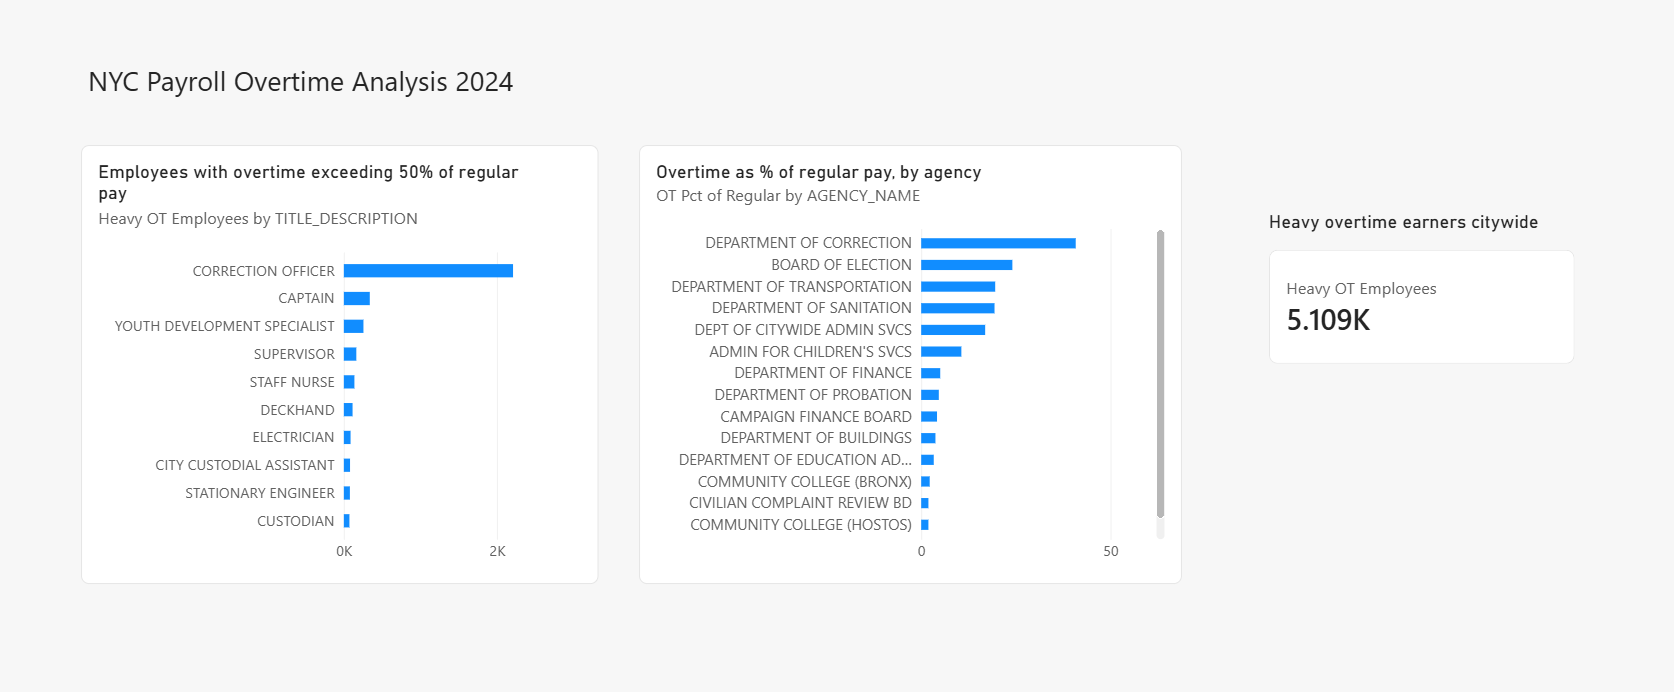

The dashboard page shown, as its layout file describes it:
{"tool":"powerbi","page":{"name":"Page 1","canvas":[1920,1080],"ordinal":0},"visuals":[{"type":"barChart","title":"Overtime as % of regular pay, by agency","fields":{"Category":["PAYROLL_RAW.AGENCY_NAME"],"Y":["PAYROLL_RAW.OT Pct of Regular"]},"box":[691,222.8,533,430.9],"z":0},{"type":"barChart","title":"Employees with overtime exceeding 50% of regular pay","fields":{"Category":["PAYROLL_RAW.TITLE_DESCRIPTION"],"Y":["PAYROLL_RAW.Heavy OT Employees"]},"box":[143.3,222.8,508.5,430.9],"z":1000},{"type":"cardVisual","title":"Heavy overtime earners citywide","fields":{"Data":["PAYROLL_RAW.Heavy OT Employees","select"]},"box":[1309.4,287.6,300,150],"z":2000},{"type":"textbox","box":[150.2,140.4,430.9,43.2],"z":2001}]}

Visuals, with their boxes on the page's 1920x1080 design canvas (x1, y1, x2, y2). These are canvas units, not pixel positions in the 1674x692 screenshot, which may show the page scaled, cropped or inside an application window:
"Overtime as % of regular pay, by agency" barChart: (691, 223, 1224, 654)
"Employees with overtime exceeding 50% of regular pay" barChart: (143, 223, 652, 654)
"Heavy overtime earners citywide" cardVisual: (1309, 288, 1609, 438)
textbox: (150, 140, 581, 184)
